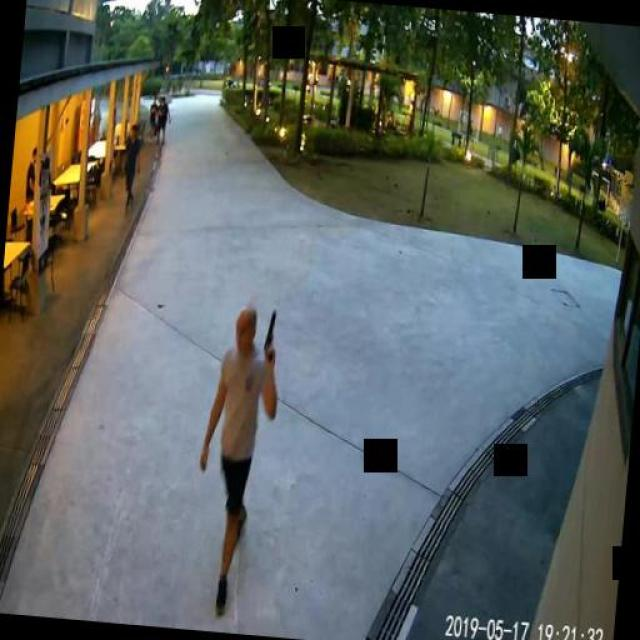gun: (261, 305, 279, 361)
